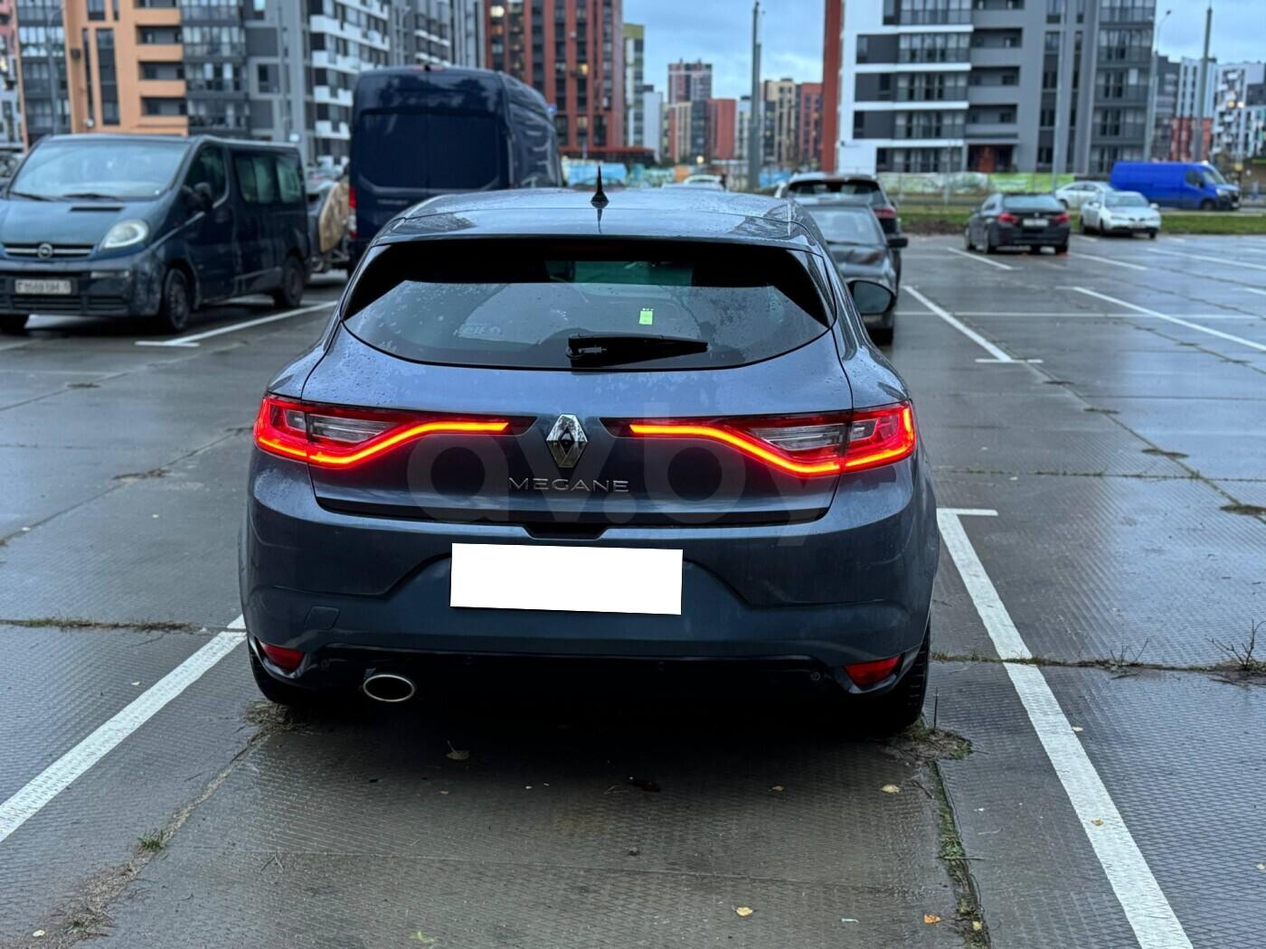Megane_2016-2020: (244, 174, 959, 751)
